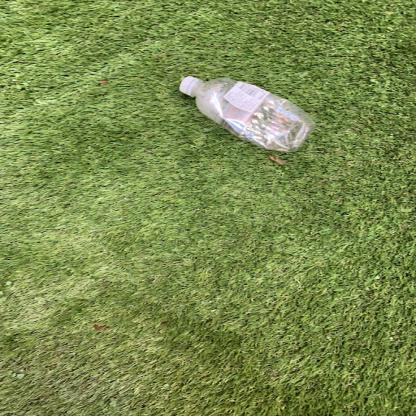trash: (170, 72, 318, 154)
